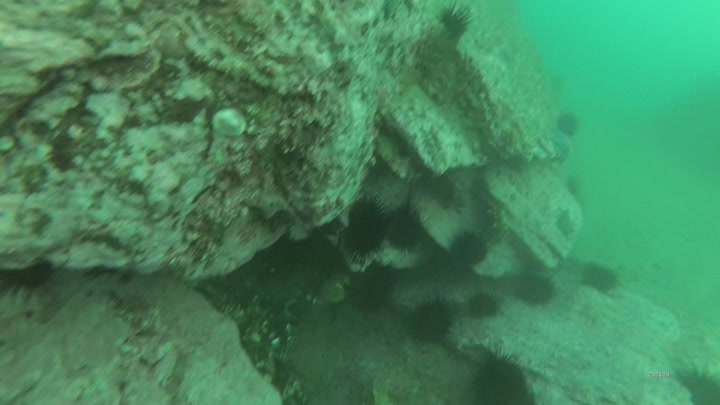echinus: (345, 192, 393, 271), (1, 239, 60, 299), (472, 349, 530, 405), (347, 262, 404, 317), (404, 296, 460, 349), (387, 195, 427, 256), (672, 356, 720, 405), (448, 228, 493, 273), (513, 269, 560, 312), (582, 258, 623, 300), (466, 286, 505, 325), (441, 4, 477, 37), (556, 106, 583, 137)
starfish: (556, 207, 582, 243), (552, 135, 579, 168)
